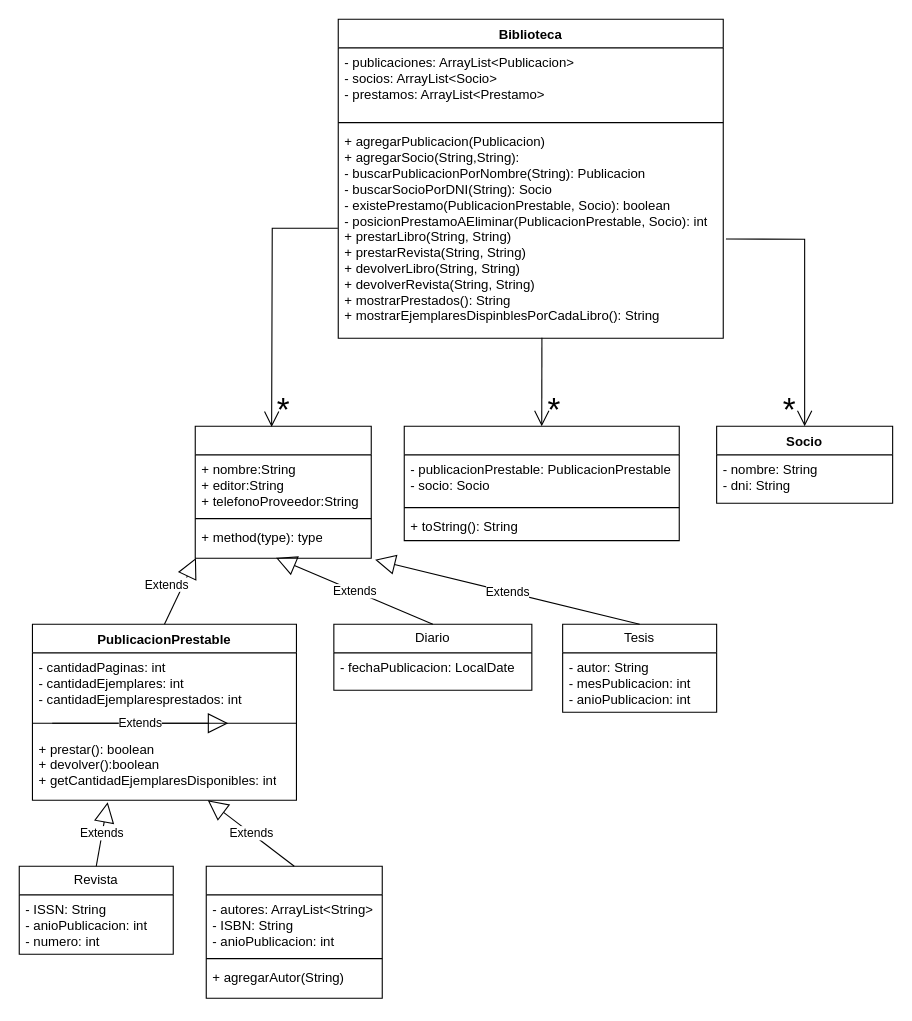
The diagram is 912 pixels wide and 1021 high, and some of its shapes have lost their labels. Here are the shapes that lost their labels. From the top down, the box of each, then its label:
(194, 425, 371, 558): Publicacion
(403, 425, 679, 541): Prestamo
(205, 865, 382, 998): Libro
